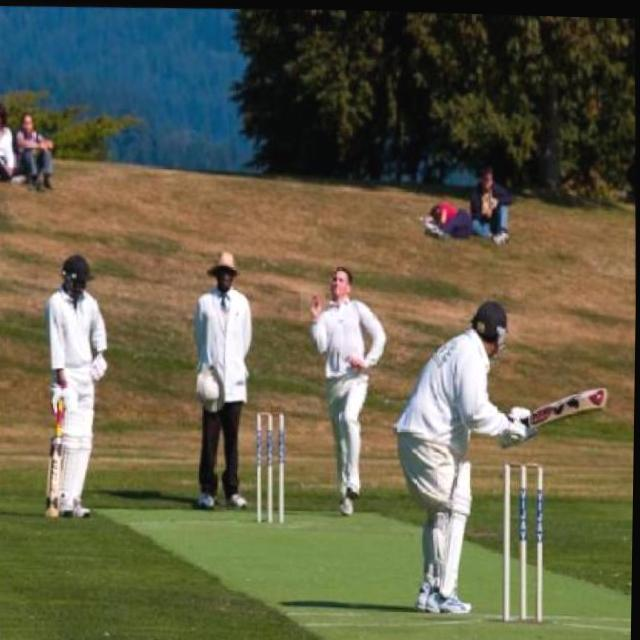-: (302, 283, 326, 320)
